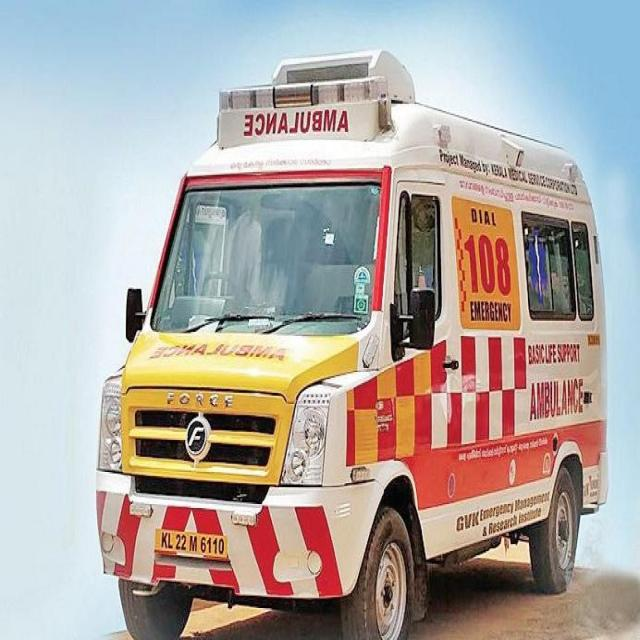ambulance: (99, 48, 608, 640)
